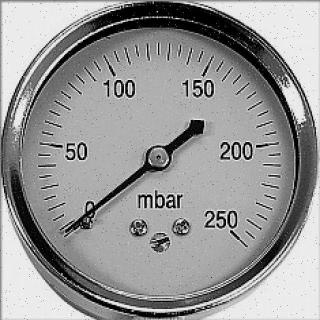gauge: (0, 0, 320, 320), (58, 202, 99, 240), (146, 144, 172, 170), (225, 221, 247, 247), (60, 222, 76, 238)
